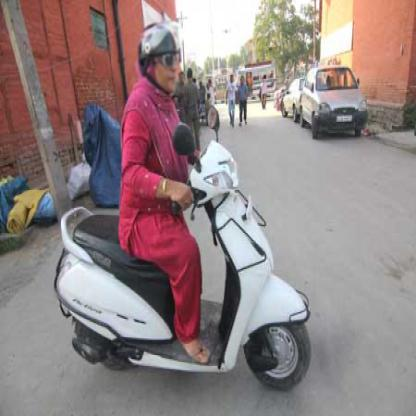Helmet: (134, 21, 185, 94)
